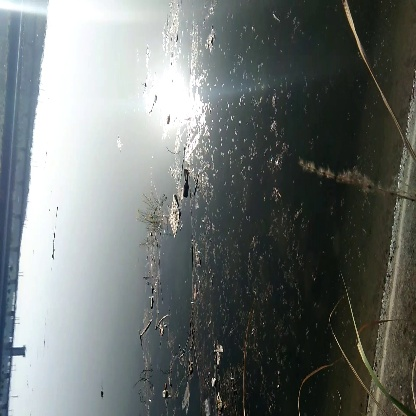plastic-garbage: (163, 192, 188, 238)
